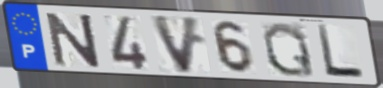4: (108, 14, 150, 72)
6: (211, 19, 257, 76)
L: (314, 23, 368, 80)
N: (43, 11, 104, 68)
Q: (259, 20, 318, 78)
V: (147, 13, 204, 76)
